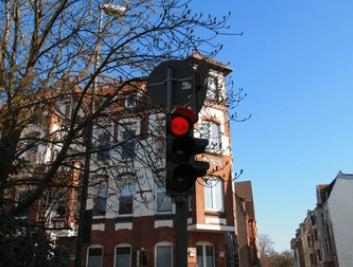red_light: (165, 108, 197, 196)
